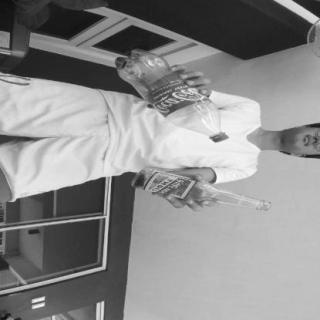plastic_bottles: (114, 48, 233, 143)
